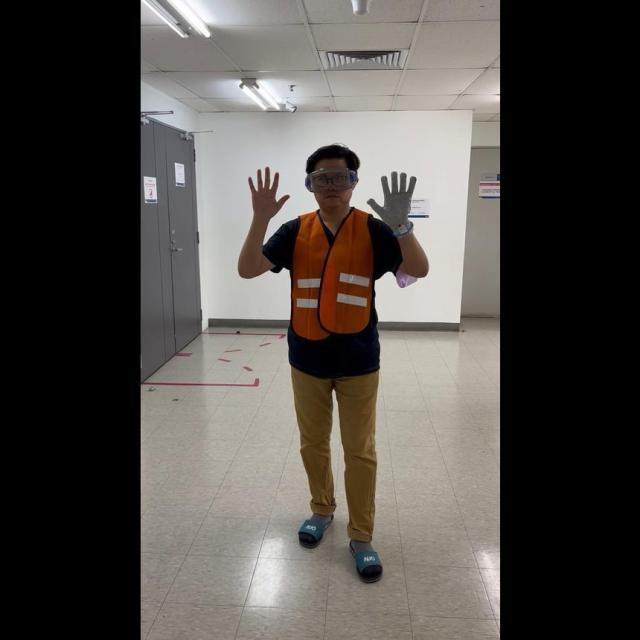bare_hand: (244, 163, 289, 221)
gloved_hand: (365, 167, 418, 235)
